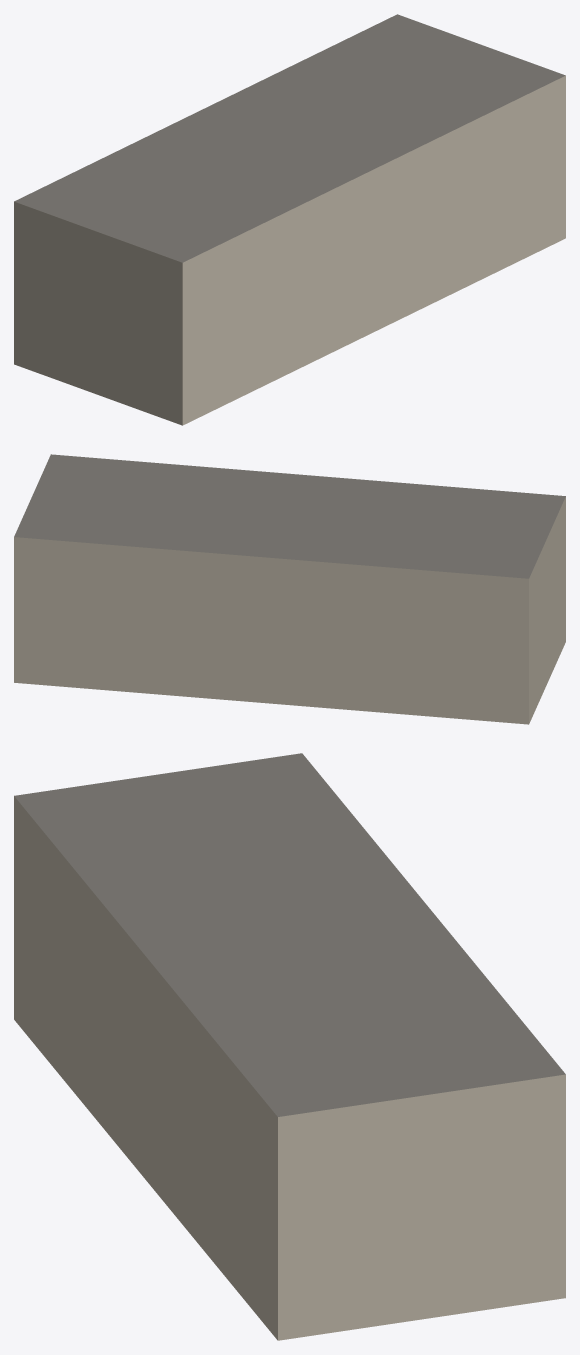
3 views of the same model, one above another, from view 1: azimuth 30°, elevation 25°; view 2: azimuth 150°, elevation 25°; view 3: azimuth 270°, elevation 25° (orthographic). The views are drawn at different scales.
Visible parts, largest first — view 1: HP-w372180438; view 2: HP-w372180438; view 3: HP-w372180438.
Boxes of the visible parts, x1,y1,x2,y2 form: HP-w372180438: [14, 14, 565, 425]; HP-w372180438: [14, 454, 565, 724]; HP-w372180438: [14, 753, 565, 1340].
Size of the model in its own units: 62.81 by 18 by 40.26.
